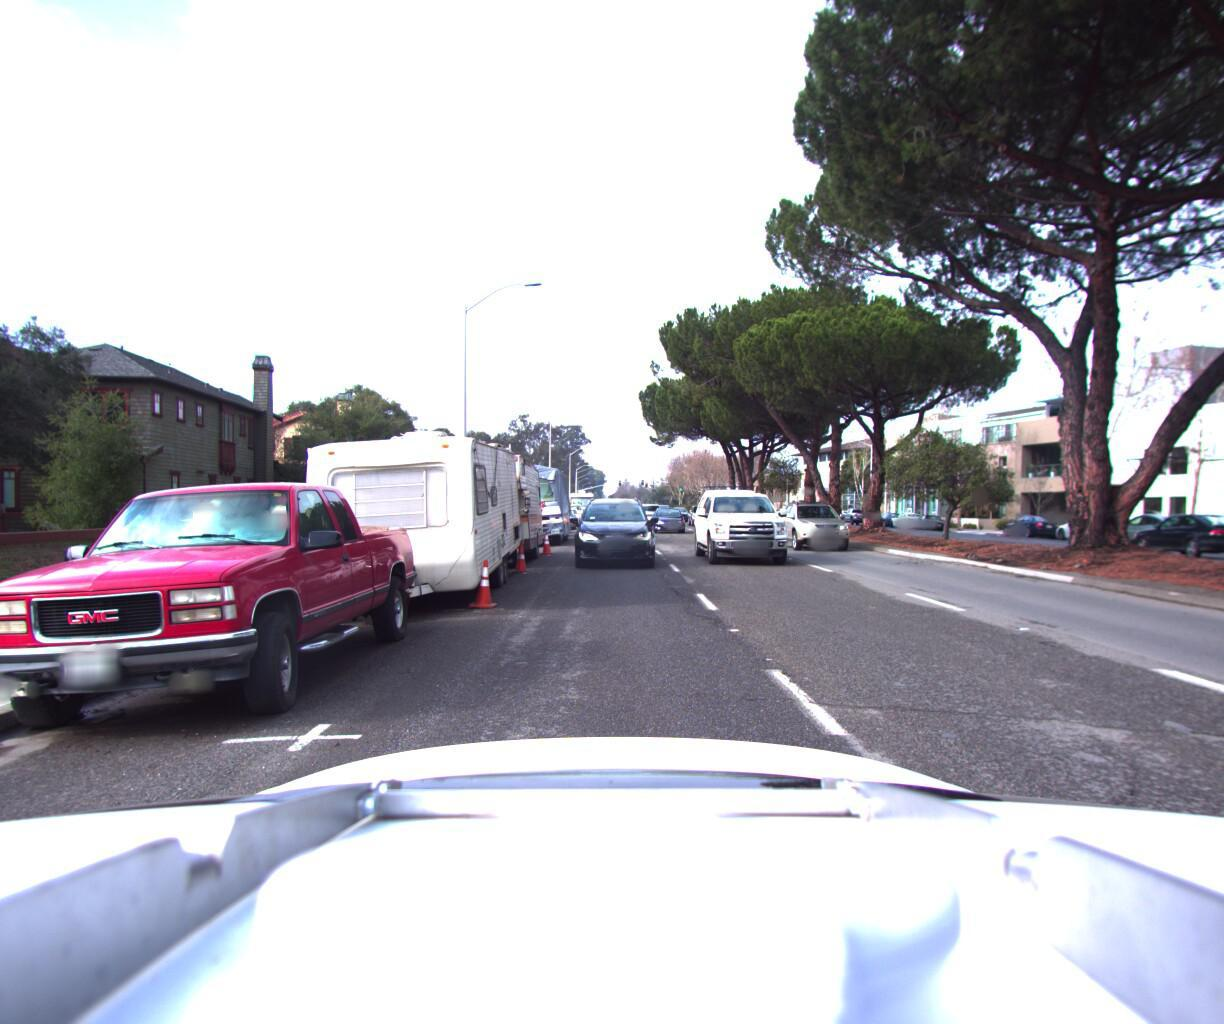car: (0, 462, 423, 761), (694, 470, 805, 566), (573, 493, 654, 569), (776, 499, 866, 556), (1105, 511, 1224, 552), (995, 510, 1063, 536), (650, 497, 690, 531), (885, 508, 927, 526), (908, 511, 948, 528), (634, 505, 661, 529)
other_vehicle: (261, 397, 523, 623), (410, 443, 548, 568), (493, 459, 572, 547)
